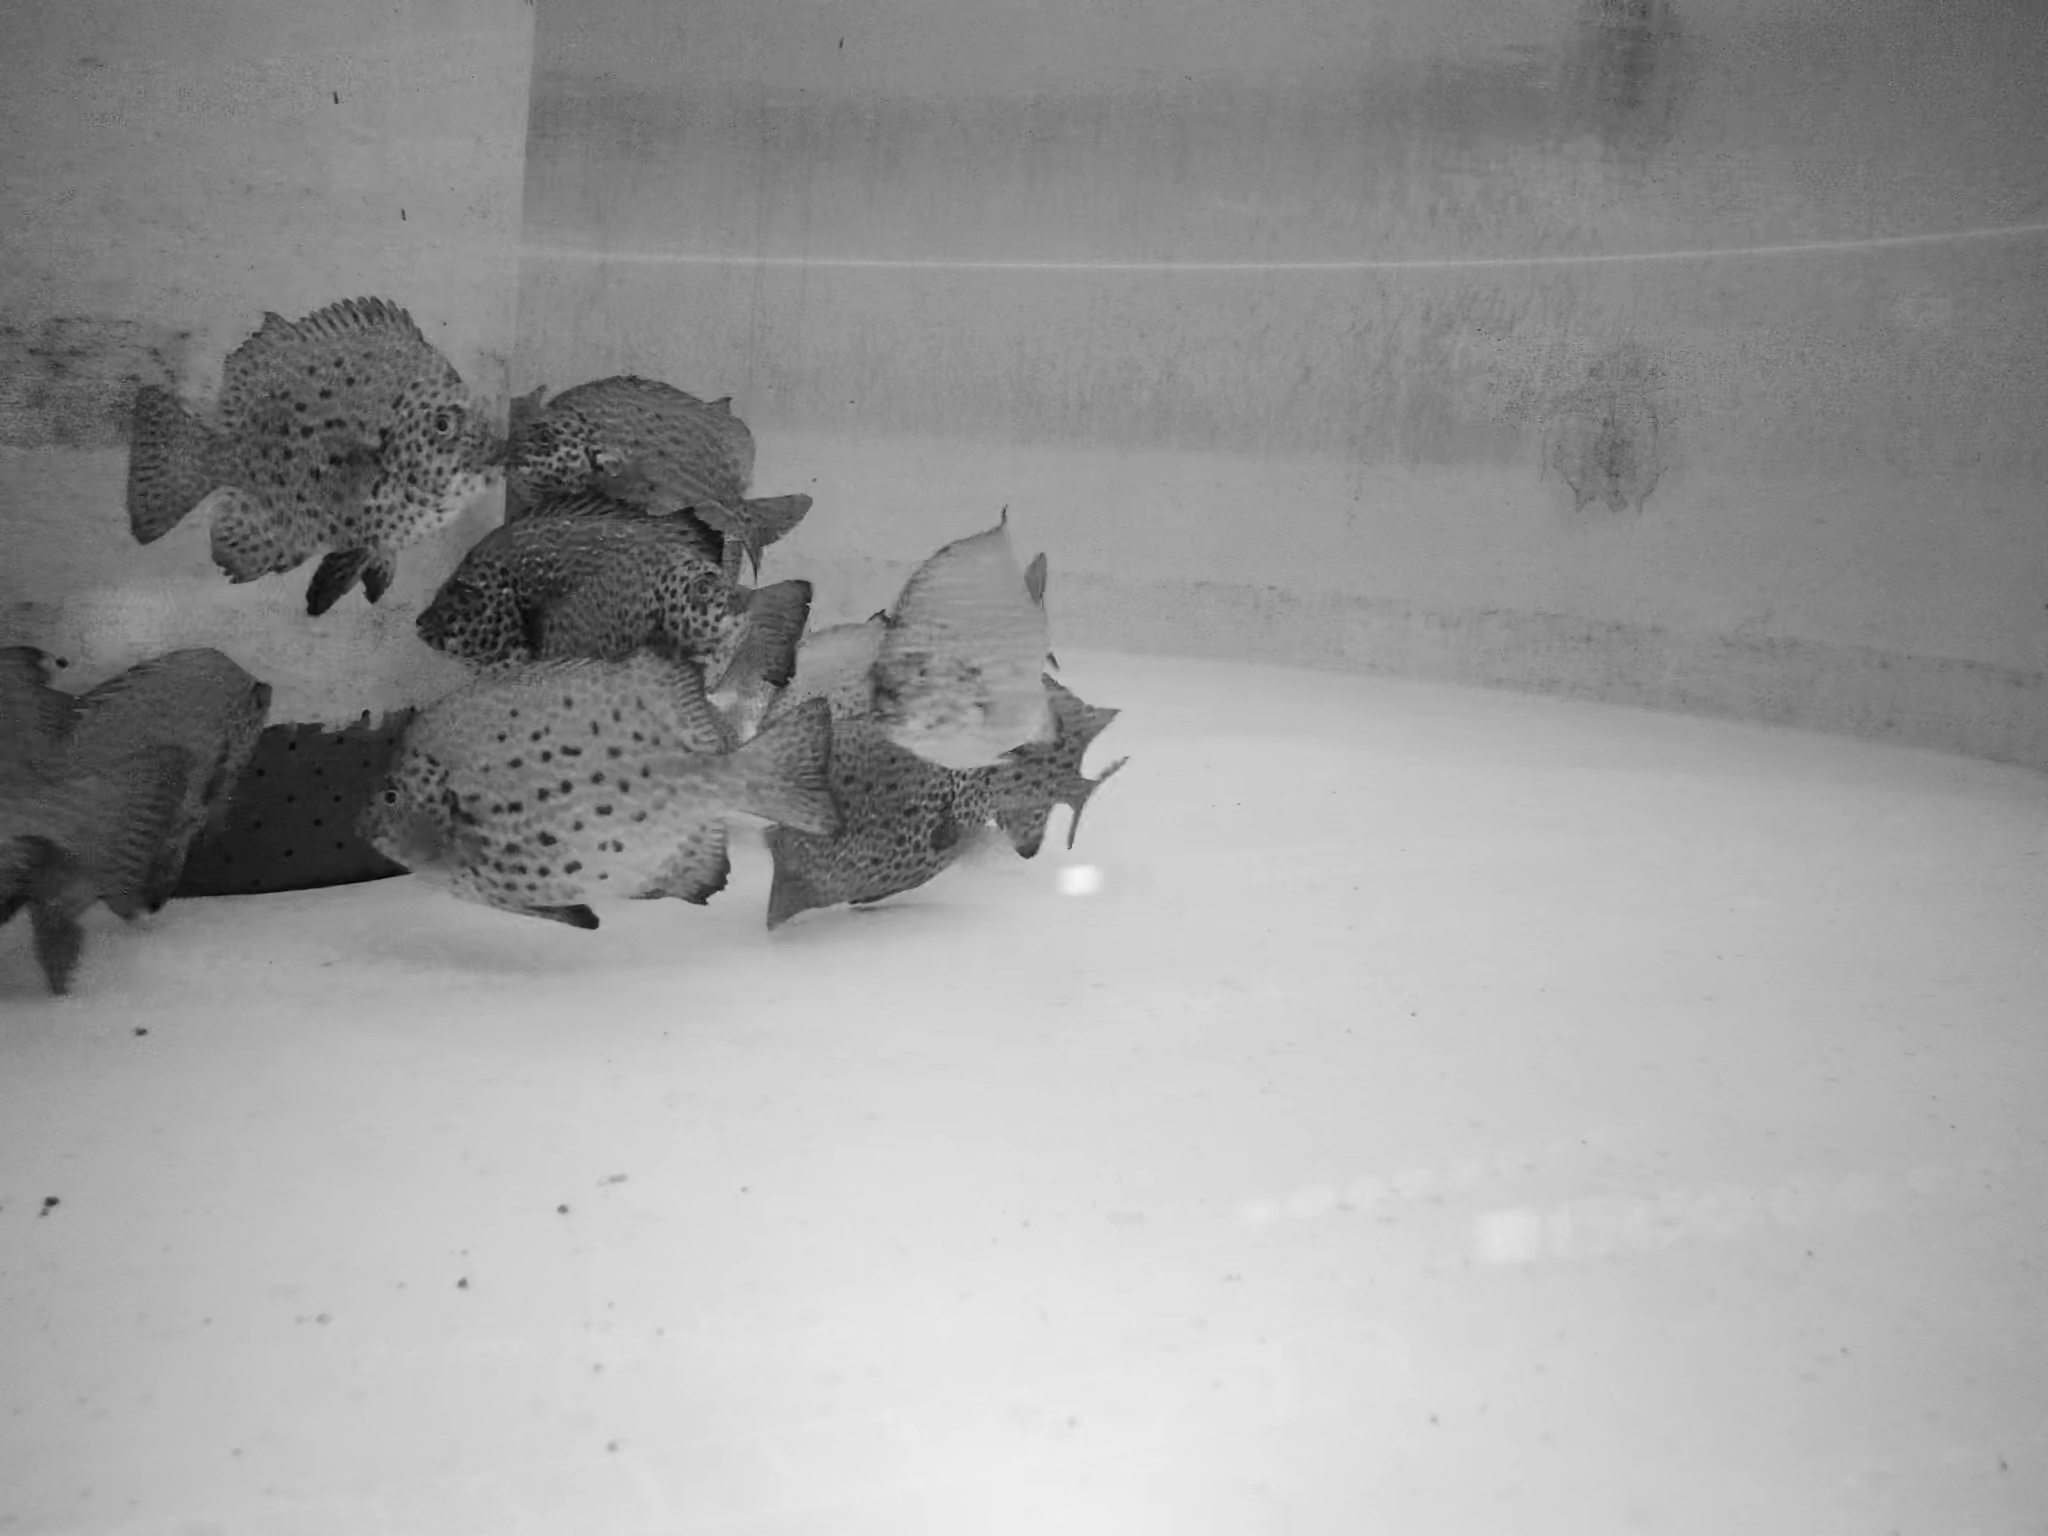fish: (360, 660, 842, 926), (119, 297, 505, 611), (418, 515, 816, 731), (751, 689, 1111, 913), (10, 631, 269, 899), (493, 378, 822, 573), (872, 518, 1064, 765), (2, 731, 174, 945)
